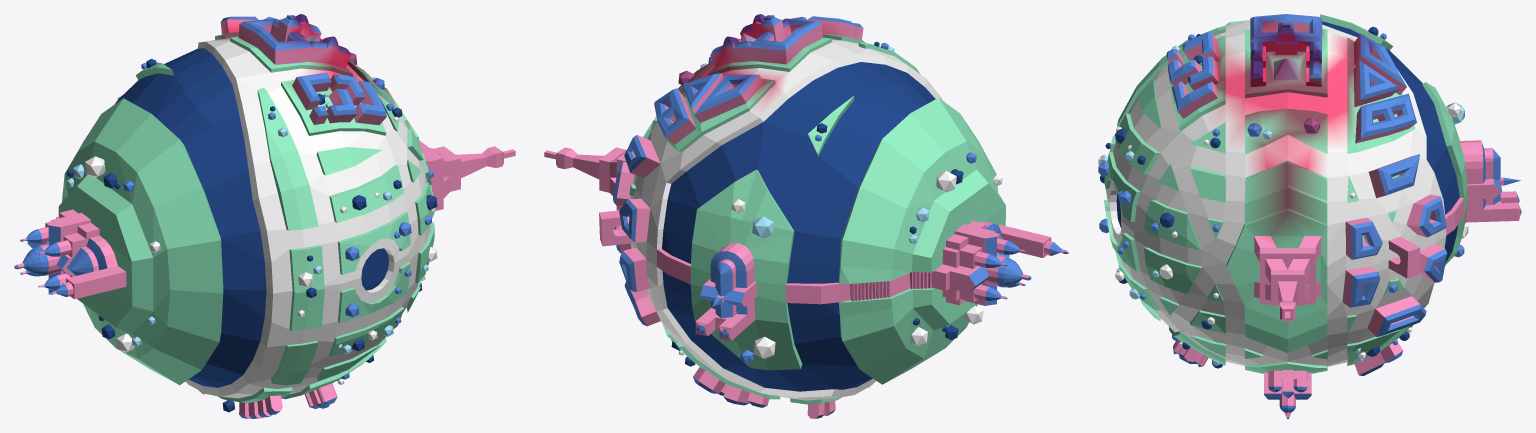
The model's file is paris.gltf.
The picture shows the model from 3 angles, left to right: view 1: azimuth 30°, elevation 25°; view 2: azimuth 150°, elevation 25°; view 3: azimuth 270°, elevation 25°; orthographic projection.
Visible parts, largest first — view 1: planet; view 2: planet; view 3: planet.
Boxes of the visible parts, <box> form: planet: <box>14,14,515,418</box>; planet: <box>544,14,1069,418</box>; planet: <box>1098,14,1521,418</box>.
Bounding box in the file's own units: 3.24 × 2.31 × 2.42.
Materials: 1 (1 with a texture image).
